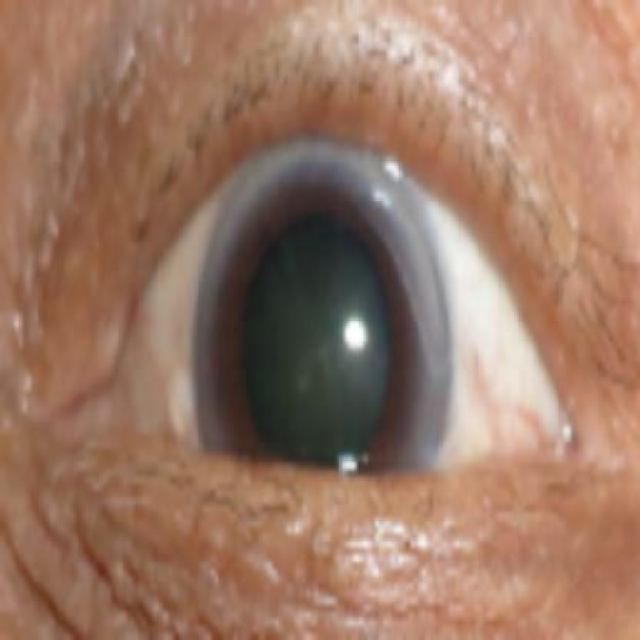Cataract: (193, 140, 457, 537)
